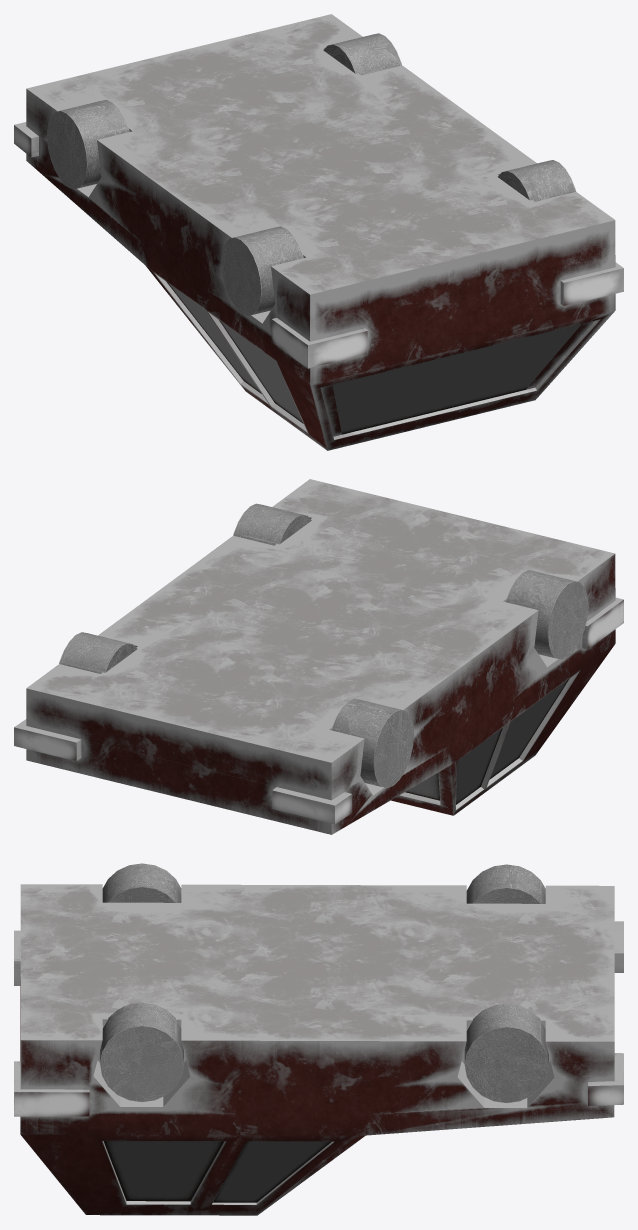
Rendered from car 1 substance.fbx.
3 renders of one model, top to bottom at view 1: azimuth 30°, elevation 25°; view 2: azimuth 150°, elevation 25°; view 3: azimuth 270°, elevation 25°, orthographic. The views are drawn at different scales.
Visible parts, largest first — view 1: polySurface8; view 2: polySurface8; view 3: polySurface8.
Part boxes in pixels (x1,y1,x2,y2): polySurface8: (14,14,623,450); polySurface8: (14,479,623,834); polySurface8: (14,863,623,1215).
Bounding box in the file's own units: 787 × 478 × 1227.
